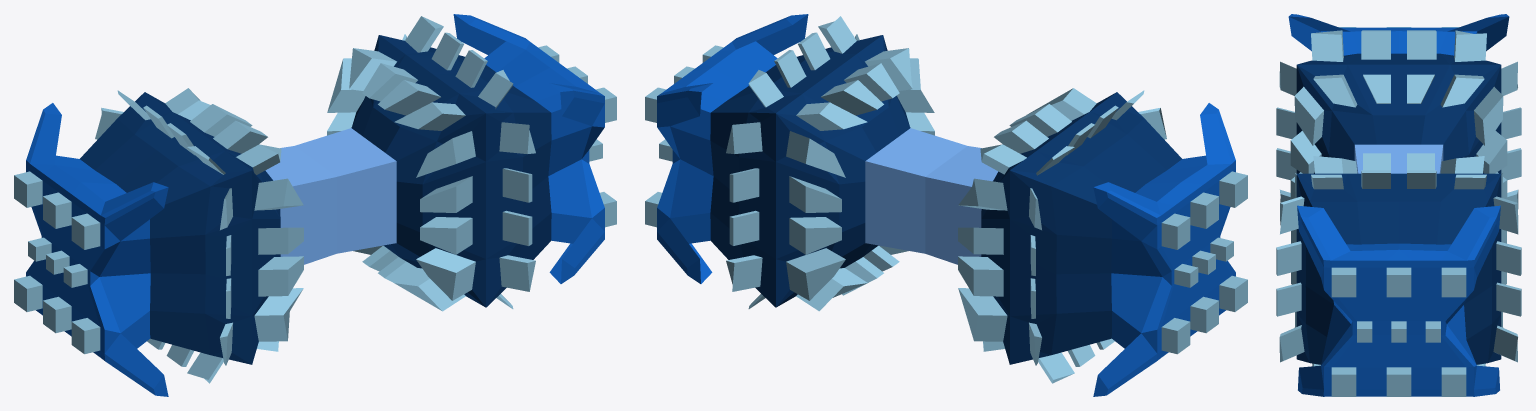
The model's file is iceBomb.glb.
The picture shows the model from 3 angles, left to right: view 1: azimuth 30°, elevation 25°; view 2: azimuth 150°, elevation 25°; view 3: azimuth 270°, elevation 25°; orthographic projection. The views are drawn at different scales.
Visible parts, largest first — view 1: Cube; view 2: Cube; view 3: Cube.
Part boxes in pixels (<box>): Cube: <box>14,14,616,396</box>; Cube: <box>645,14,1247,396</box>; Cube: <box>1276,14,1521,396</box>.
Bounding box in the file's own units: 8.42 × 3.52 × 3.52.
Materials: 1 (1 with a texture image).
